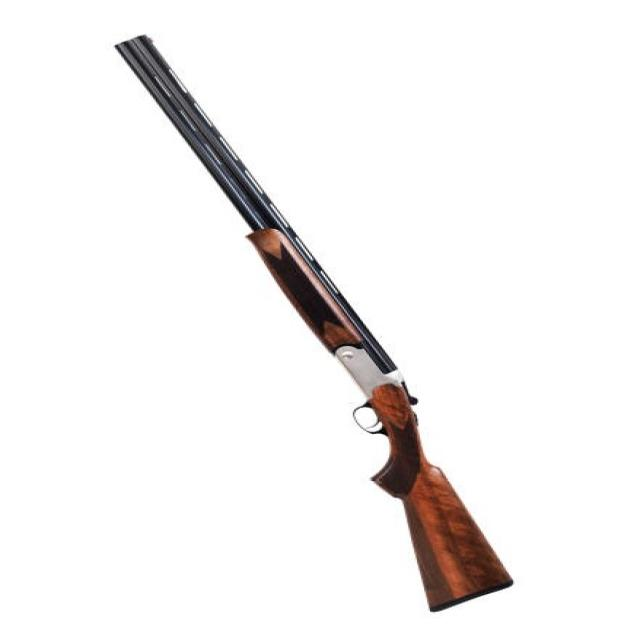rifle: (108, 22, 531, 621)
